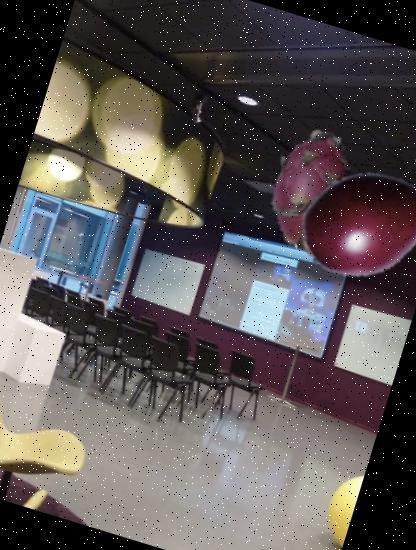Pitahaya: (233, 116, 394, 278)
Potato: (289, 151, 416, 296)
Tamarillo: (275, 139, 416, 311)
